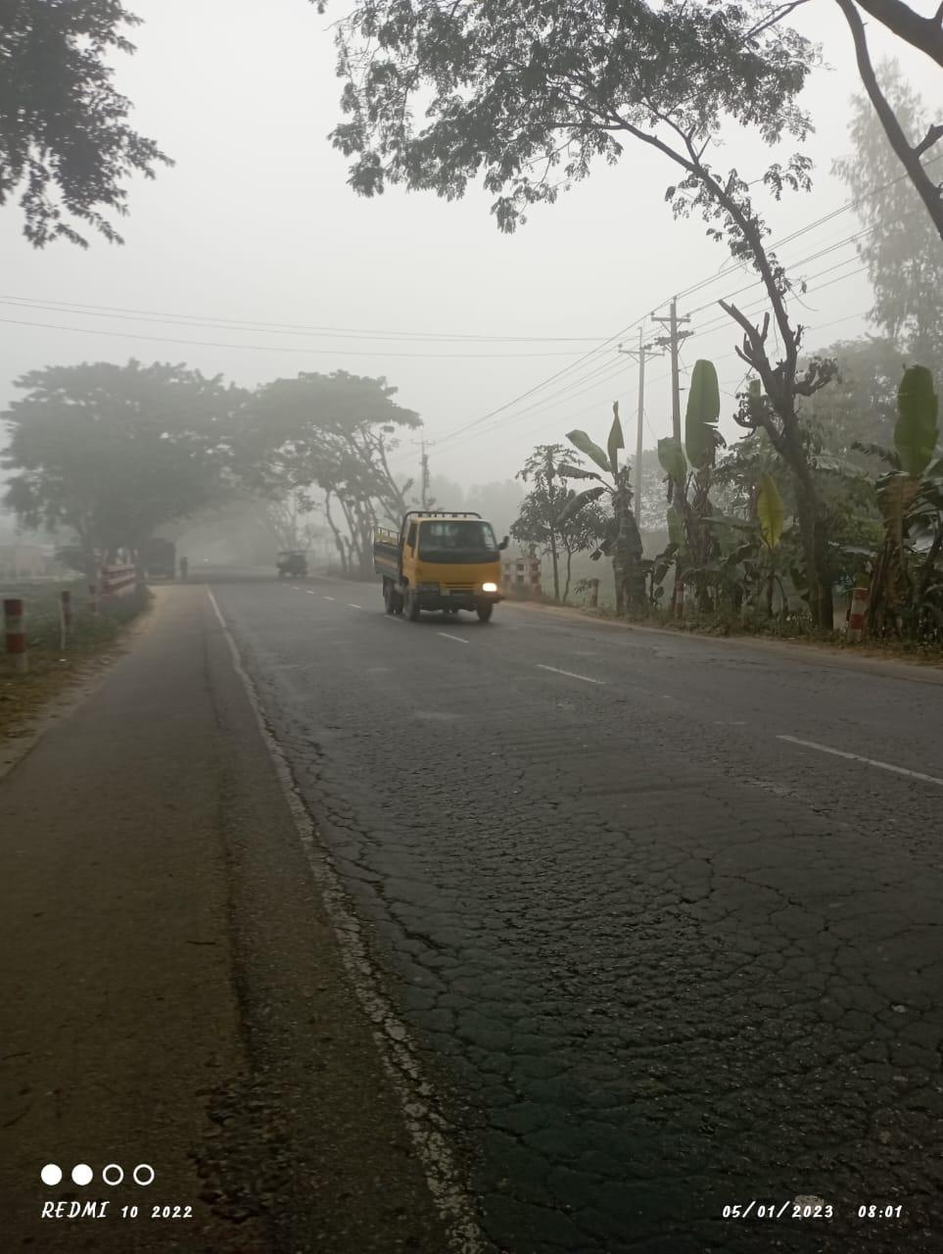Car: (266, 543, 320, 577)
Truck: (360, 499, 525, 630)
